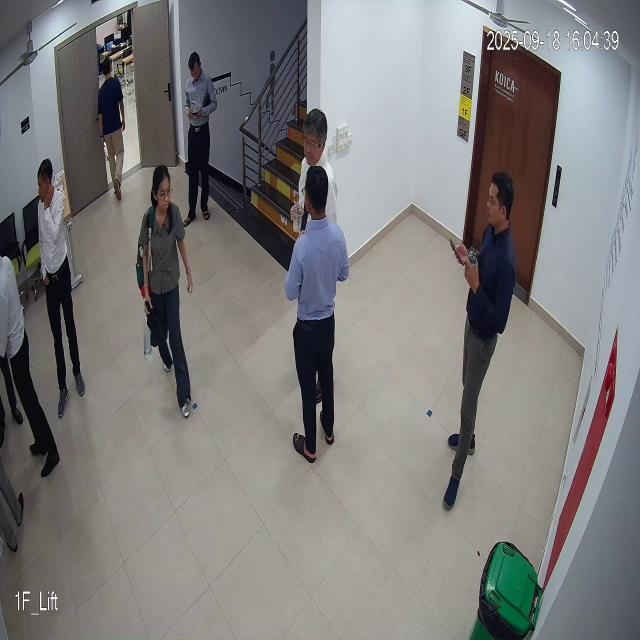face: (484, 170, 514, 231), (302, 110, 331, 168), (146, 162, 177, 216)
